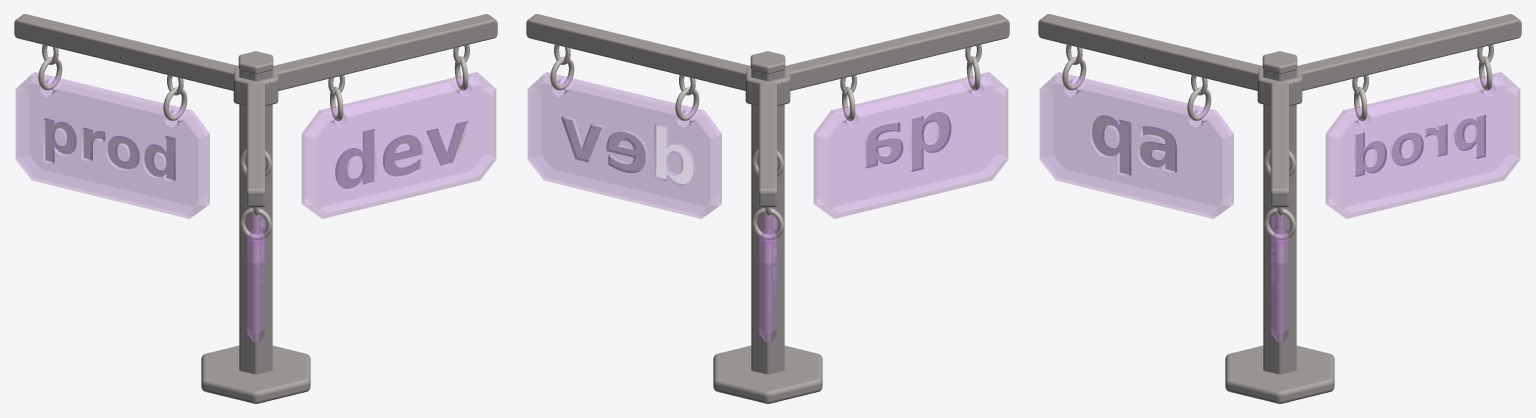
Rendered from api-gateway-stage.glb.
3 views of the same model, side by side, from view 1: azimuth 30°, elevation 25°; view 2: azimuth 150°, elevation 25°; view 3: azimuth 270°, elevation 25° (orthographic).
Visible parts, largest first — view 1: dev • engraved plaque, prod • engraved plaque, Six sided direction pole, dev • cantilever, prod • cantilever, Beveled hexagonal foot, qa • cantilever, qa • engraved plaque, Three-way arm collar, Post cap, qa outer link; view 2: qa • engraved plaque, dev • engraved plaque, Six sided direction pole, dev • cantilever, qa • cantilever, Beveled hexagonal foot, prod • cantilever, prod • engraved plaque, Three-way arm collar, Post cap, prod outer link; view 3: prod • engraved plaque, qa • engraved plaque, Six sided direction pole, prod • cantilever, qa • cantilever, Beveled hexagonal foot, dev • cantilever, dev • engraved plaque, Three-way arm collar, Post cap, dev outer link.
Part boxes in pixels (x1,y1,x2,y2): dev • engraved plaque: [302, 72, 495, 218]; prod • engraved plaque: [16, 72, 209, 218]; Six sided direction pole: [239, 70, 272, 374]; dev • cantilever: [273, 14, 497, 90]; prod • cantilever: [14, 14, 238, 90]; Beveled hexagonal foot: [201, 345, 310, 403]; qa • cantilever: [246, 82, 265, 207]; qa • engraved plaque: [247, 207, 264, 341]; Three-way arm collar: [233, 67, 278, 106]; Post cap: [238, 51, 273, 73]; qa outer link: [240, 208, 271, 240]; qa • engraved plaque: [814, 72, 1007, 218]; dev • engraved plaque: [528, 72, 721, 218]; Six sided direction pole: [751, 70, 784, 374]; dev • cantilever: [526, 14, 750, 90]; qa • cantilever: [785, 14, 1009, 90]; Beveled hexagonal foot: [713, 345, 822, 403]; prod • cantilever: [758, 82, 777, 207]; prod • engraved plaque: [759, 207, 776, 341]; Three-way arm collar: [745, 67, 790, 106]; Post cap: [750, 51, 785, 73]; prod outer link: [752, 208, 783, 240]; prod • engraved plaque: [1326, 72, 1519, 218]; qa • engraved plaque: [1040, 72, 1233, 218]; Six sided direction pole: [1263, 70, 1296, 374]; prod • cantilever: [1297, 14, 1521, 90]; qa • cantilever: [1038, 14, 1262, 90]; Beveled hexagonal foot: [1225, 345, 1334, 403]; dev • cantilever: [1270, 82, 1289, 207]; dev • engraved plaque: [1271, 207, 1288, 341]; Three-way arm collar: [1257, 67, 1302, 106]; Post cap: [1262, 51, 1297, 73]; dev outer link: [1264, 208, 1295, 240].
Bounding box in the file's own units: 6 × 5.05 × 6.9.
